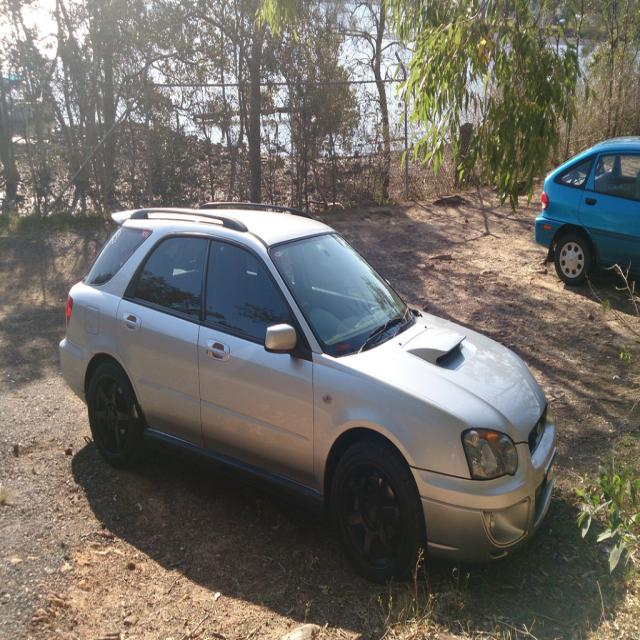car: (68, 208, 561, 586)
